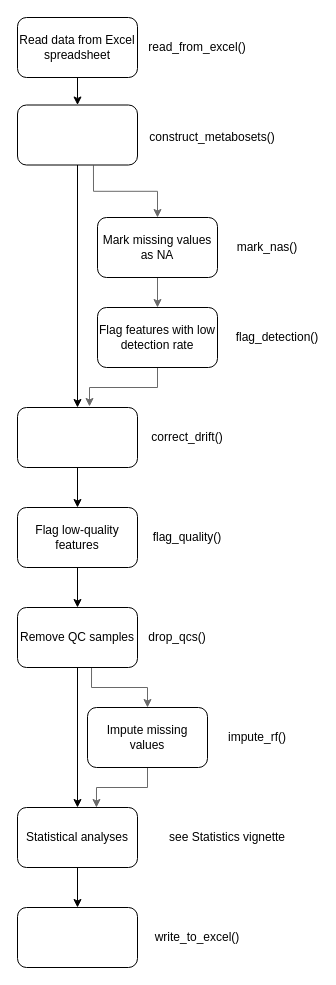
This 336x985 diagram has some shape labels left out. The centre of each missing label's shape, as x and y in pixels:
Construct MetaboSet objects: (77,134)
Drift correction: (77,437)
Write results to Excel spreadsheet: (77,937)
